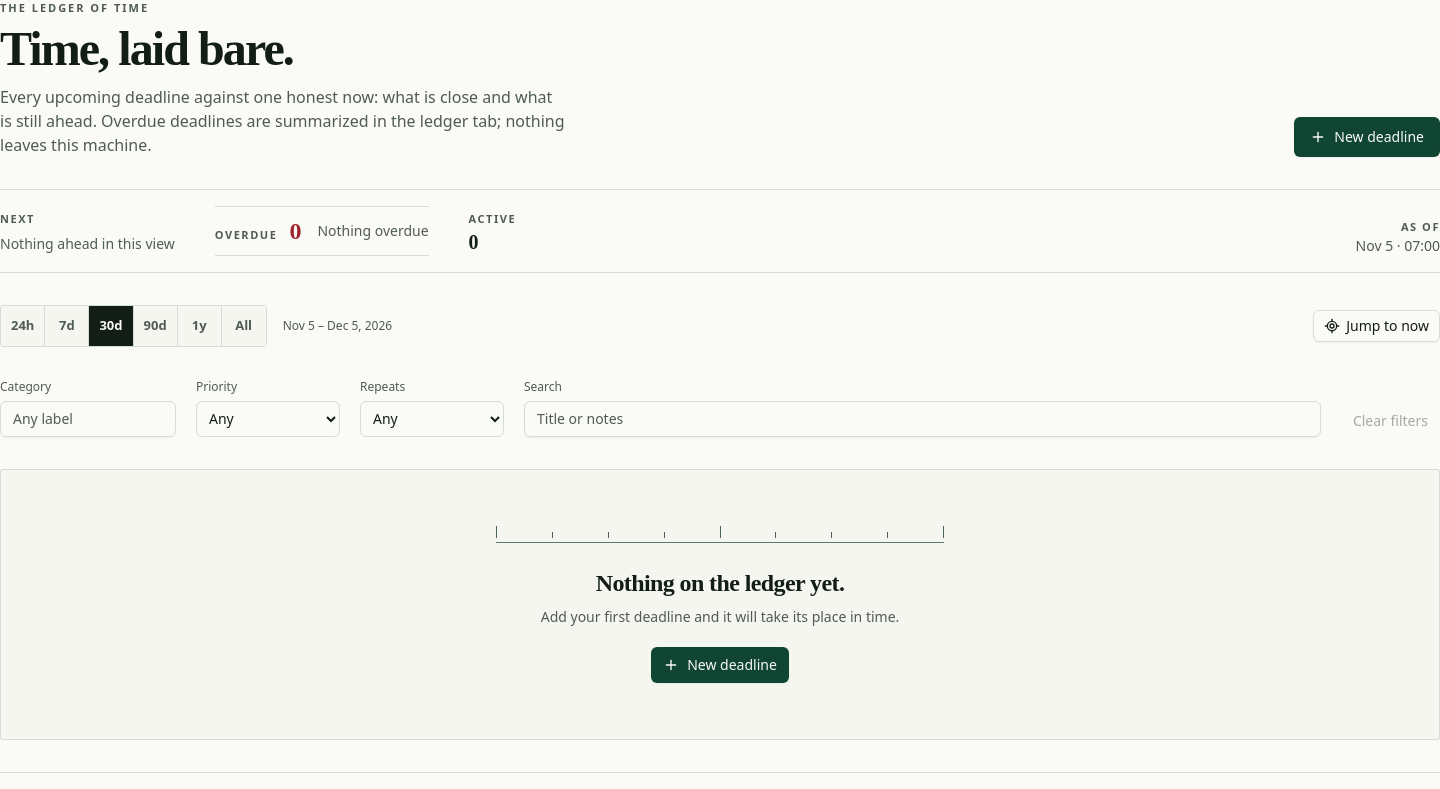
Test case: TimelinePage US1 baseline › keeps the empty state and opens the create form from it
The width and height of the screenshot is (1440, 789).
Expected: the heading "Nothing on the ledger yet." is shown, [596,570,844,596]
Click the button "New deadline" below "Nothing on the ledger yet.". click: [720, 664]
box: [651,646,789,682]
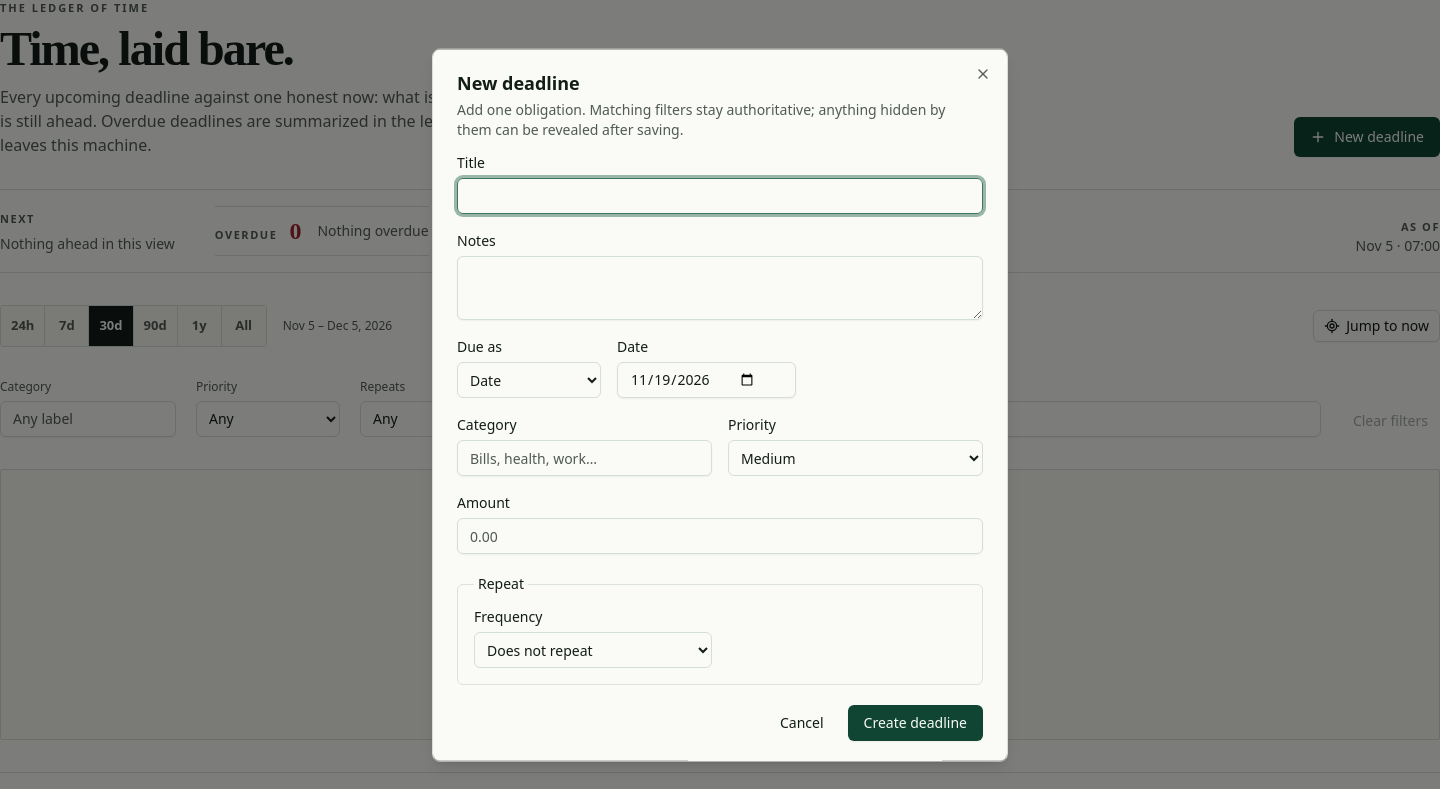
Expected: the dialog "New deadline" is shown, [432,49,1008,761]
